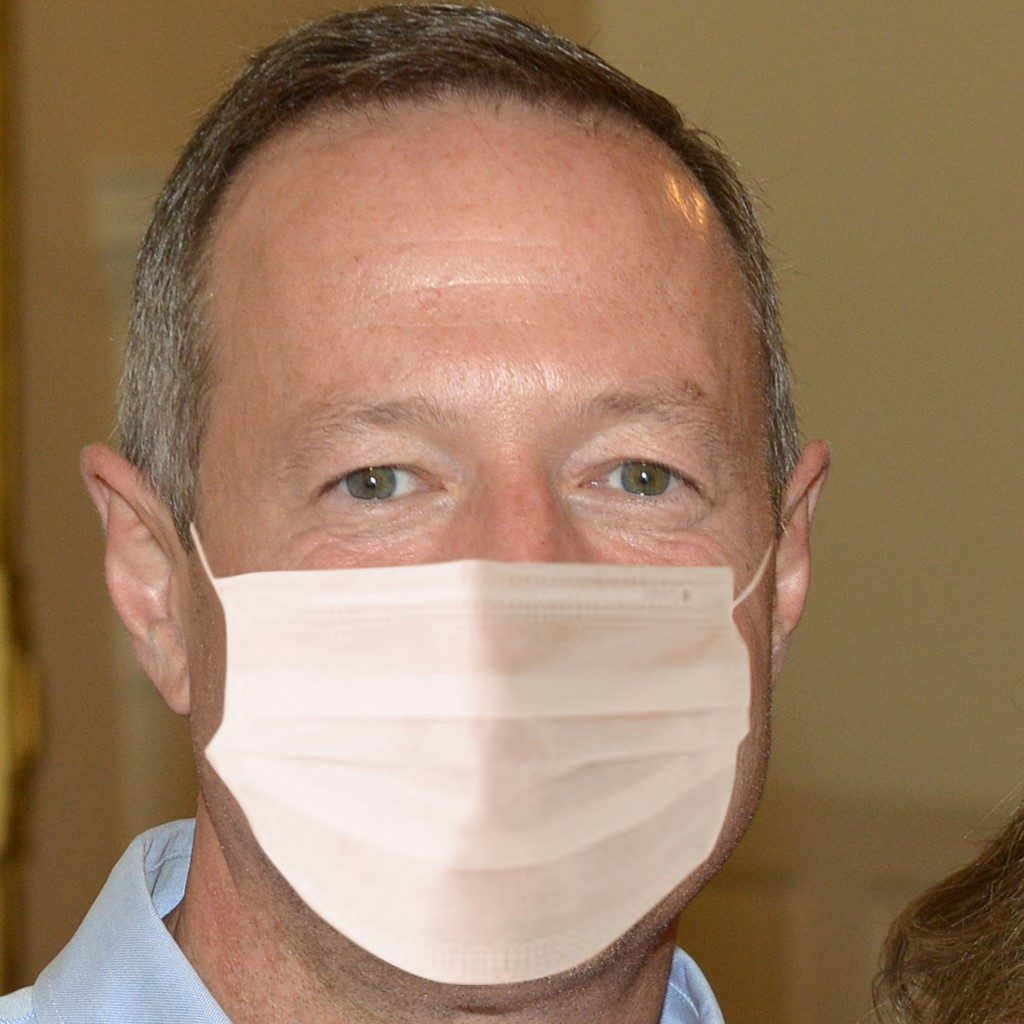con_mascara: (130, 67, 781, 995)
